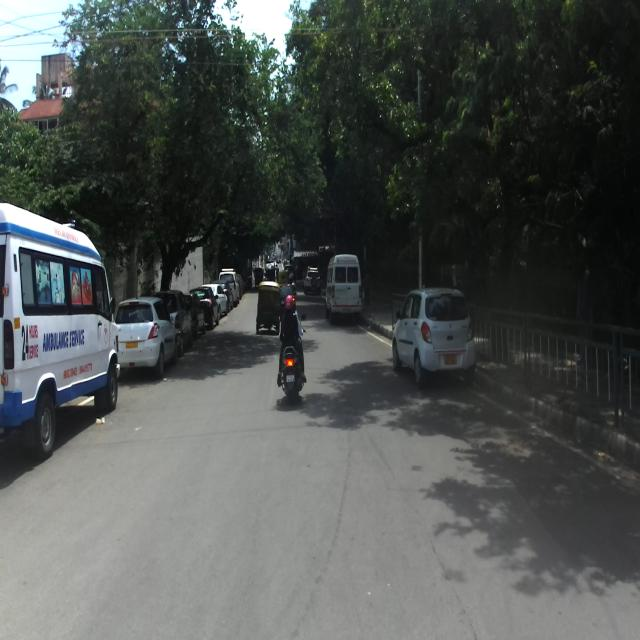bus ahead at: (0, 204, 120, 453)
car ahead at: (388, 289, 477, 382), (120, 295, 179, 386)
